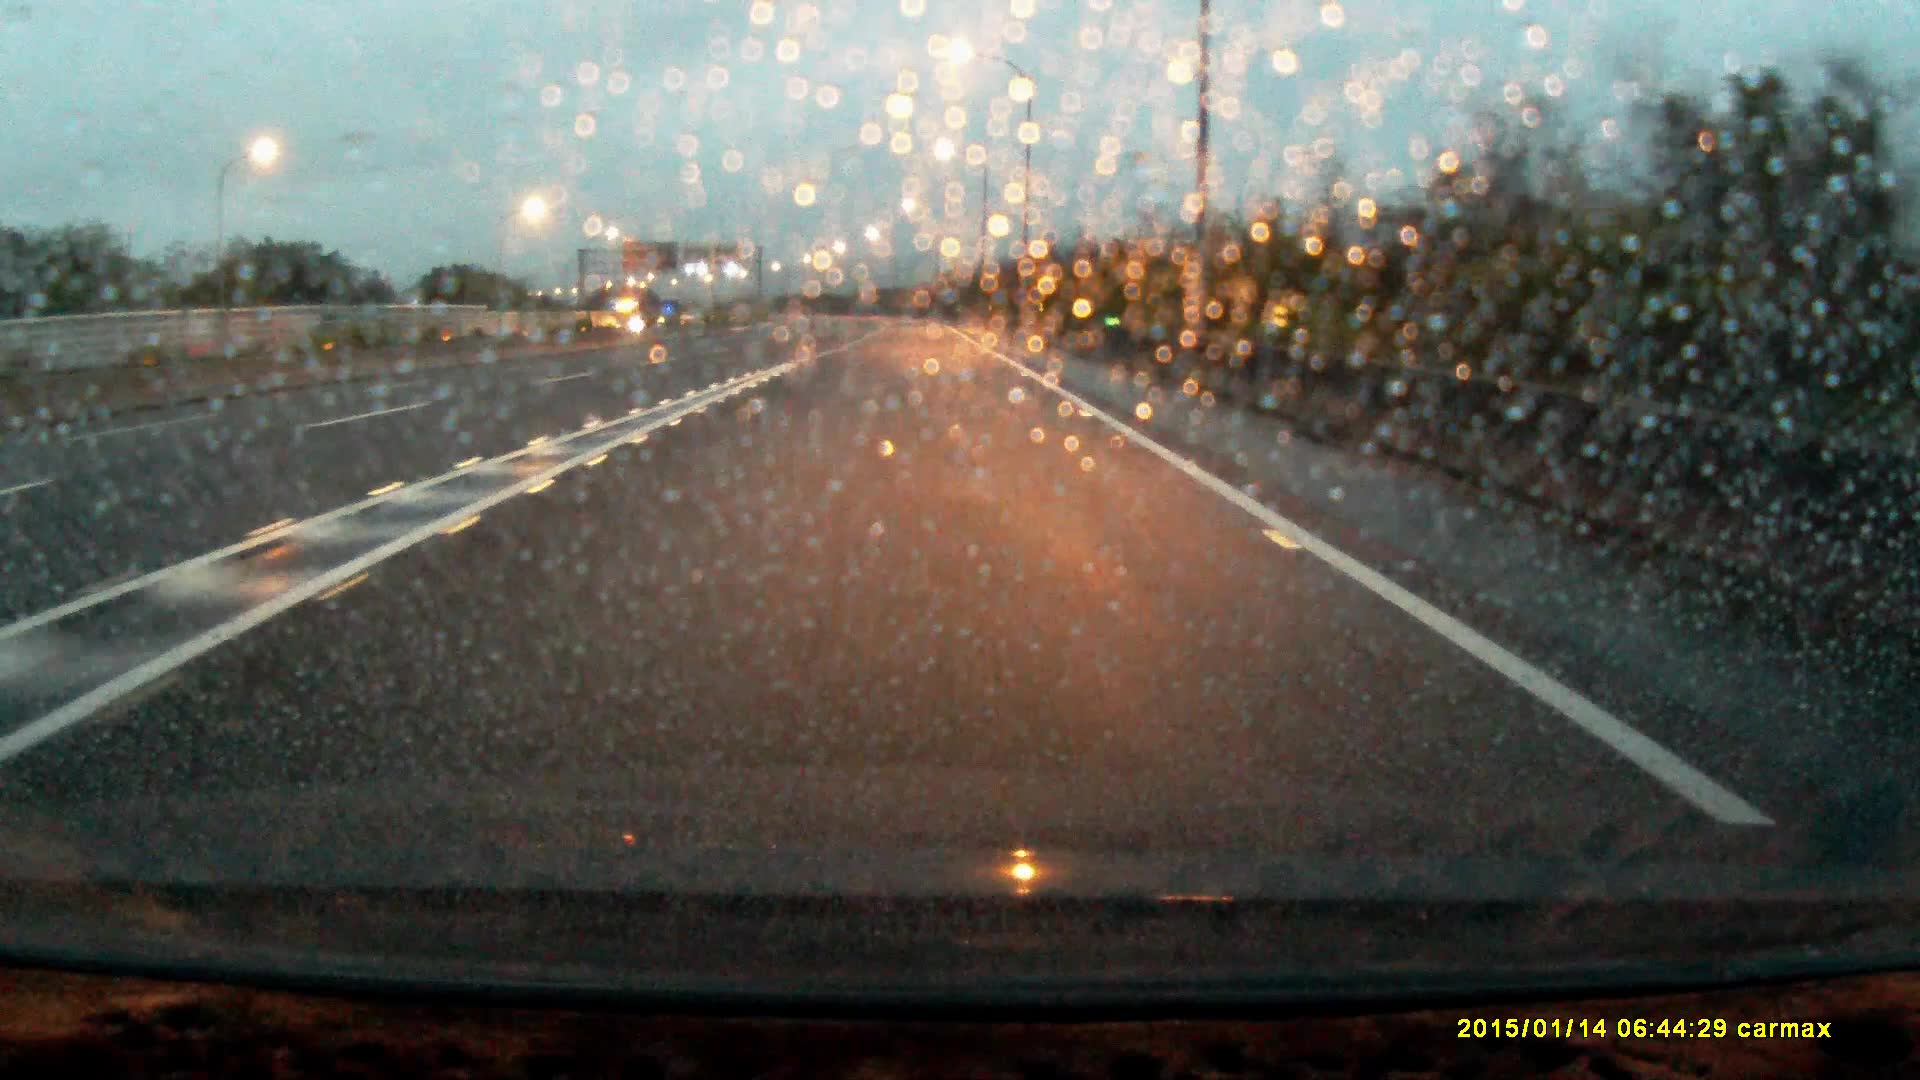vehicle: (611, 295, 647, 334)
